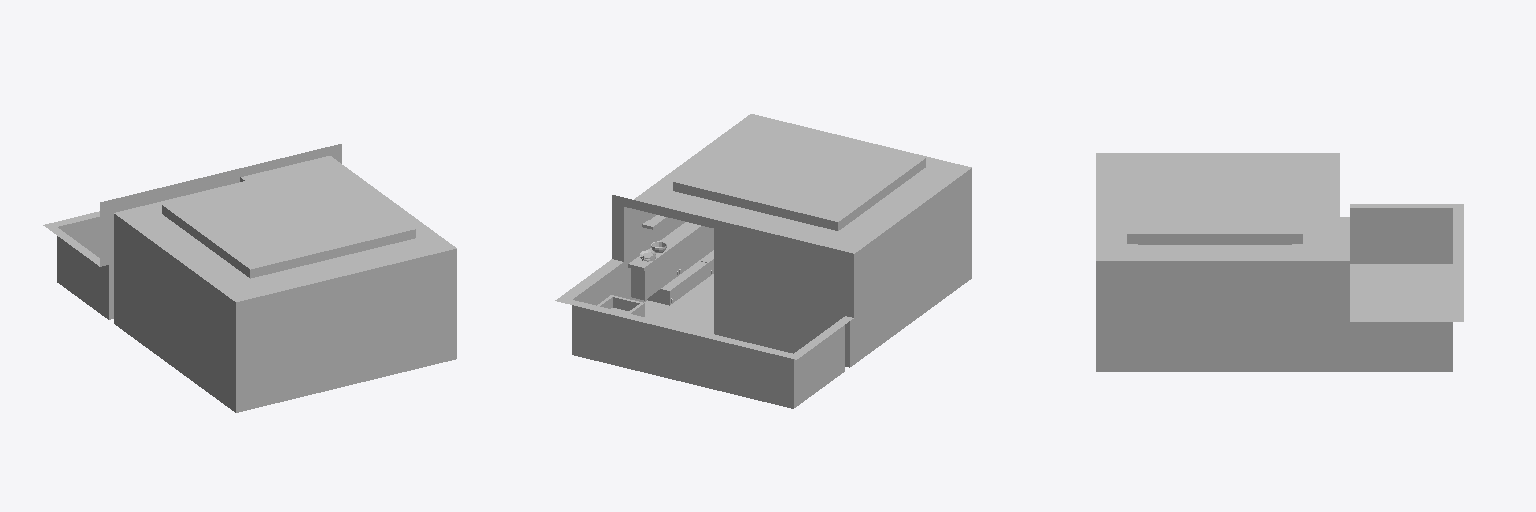
Rendered from LivingRoom2.obj.
The picture shows the model from 3 angles: view 1: azimuth 30°, elevation 25°; view 2: azimuth 150°, elevation 25°; view 3: azimuth 270°, elevation 25°; orthographic projection.
Visible parts, largest first — view 1: Mesh_Mesh.002_Box001; view 2: Mesh_Mesh.002_Box001, Mesh.003_Mesh.005_Cabinet, Mesh.001_Mesh.001_Box002; view 3: Mesh_Mesh.002_Box001.
Part boxes in pixels (x1,y1,x2,y2): Mesh_Mesh.002_Box001: (43,144,456,412); Mesh_Mesh.002_Box001: (555,114,971,408); Mesh.003_Mesh.005_Cabinet: (628,222,713,305); Mesh.001_Mesh.001_Box002: (597,295,644,316); Mesh_Mesh.002_Box001: (1096,153,1463,371).
Size of the model in its own units: 6.67 by 3.29 by 8.8.